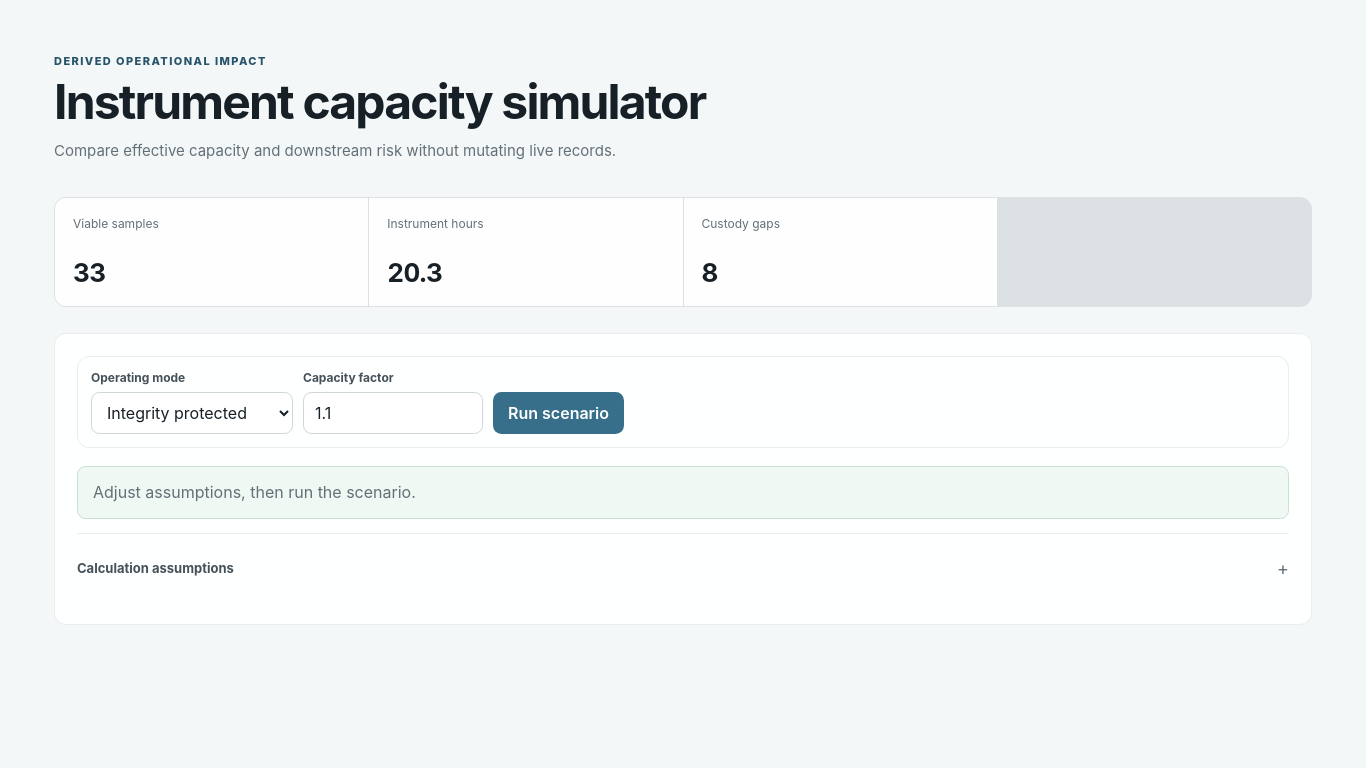
Test case: LabOrbit connected surfaces › runs a deterministic scenario asynchronously
Click the button "Run scenario": point(558, 413) [493,392,624,434]
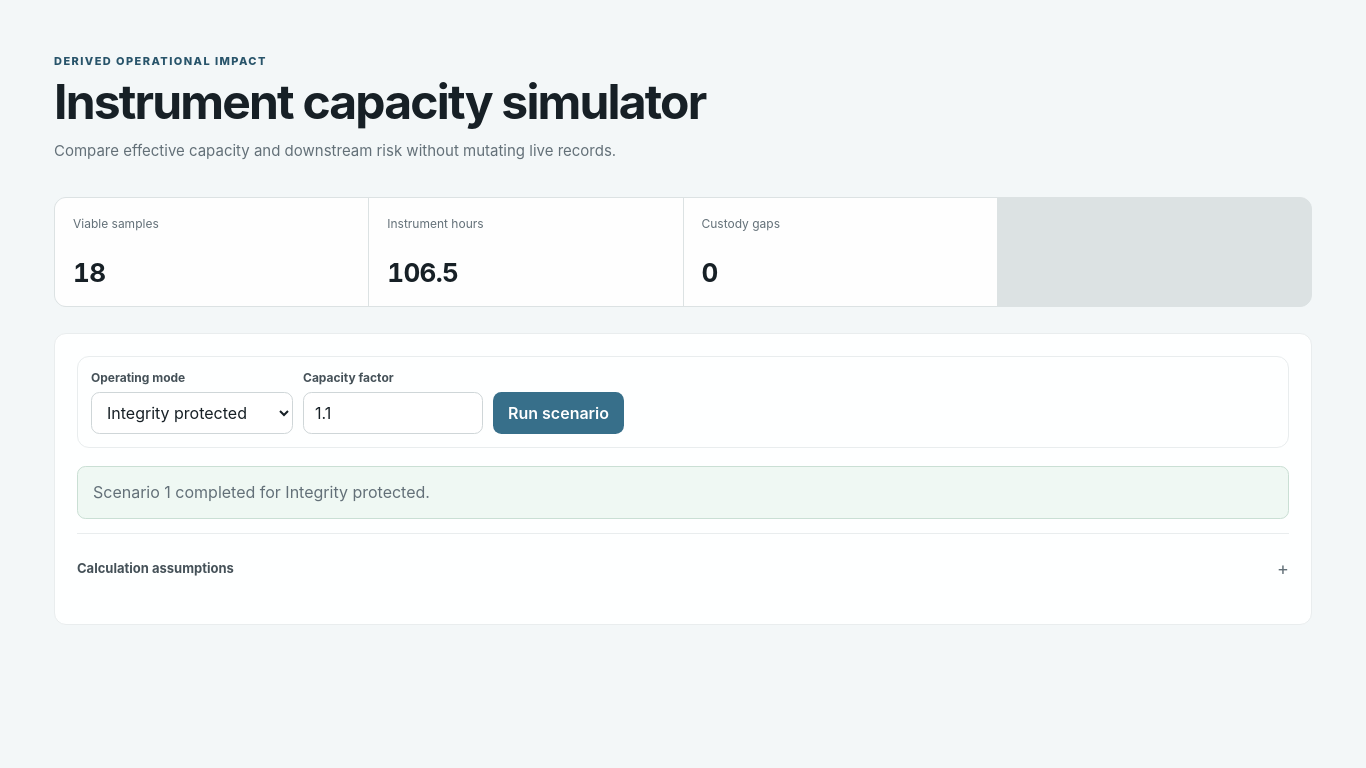
Expected: the message shows "completed", [93,482,430,502]
